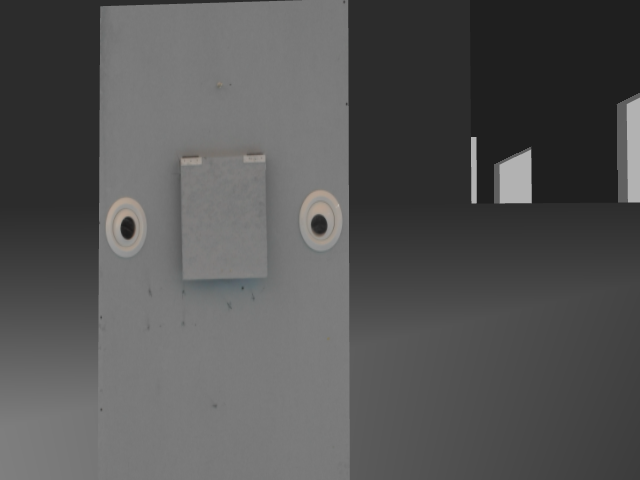facade: (102, 148, 343, 285)
